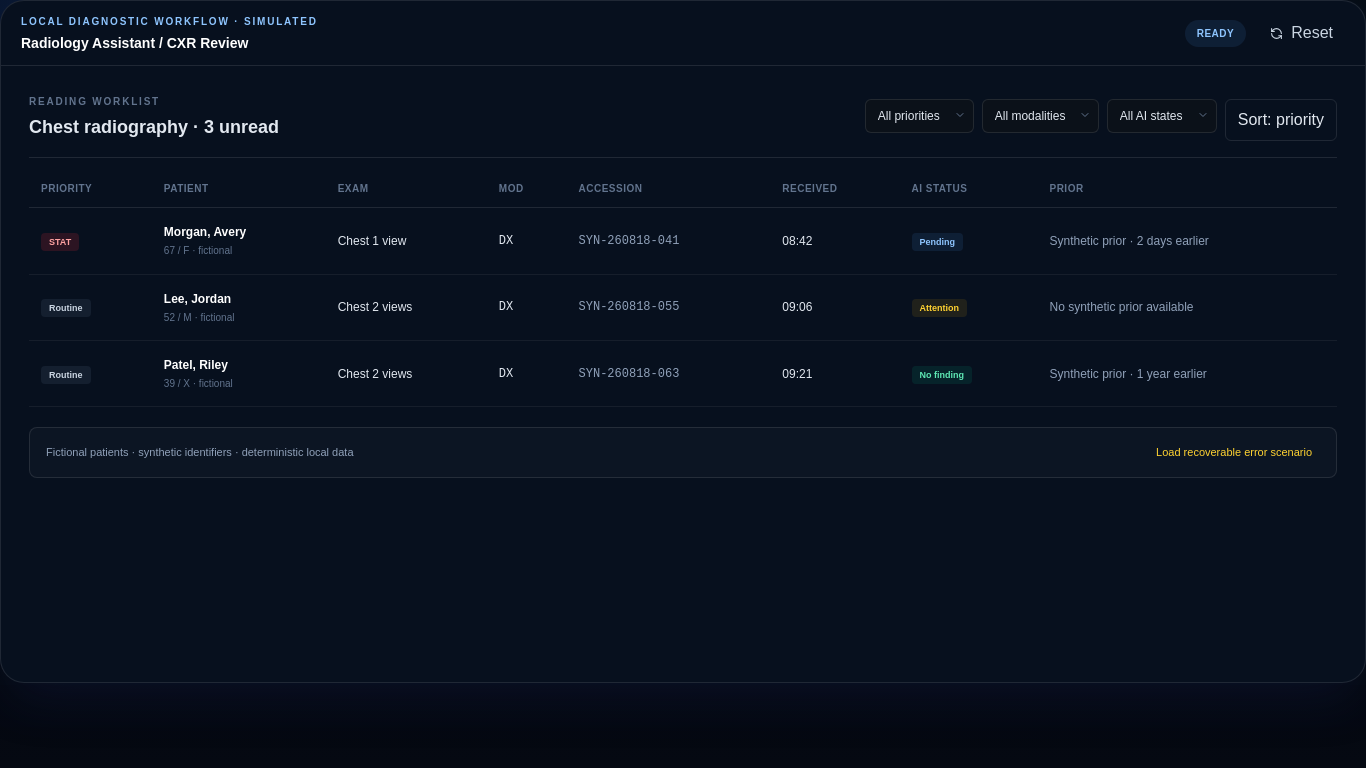
it: Radiology Assistant simulation › reflects Confirm for draft disposition in the generated report
Click the text "Morgan, Avery". click: coordinates (205, 232)
box: left=164, top=225, right=246, bottom=239
Wait 400 ms
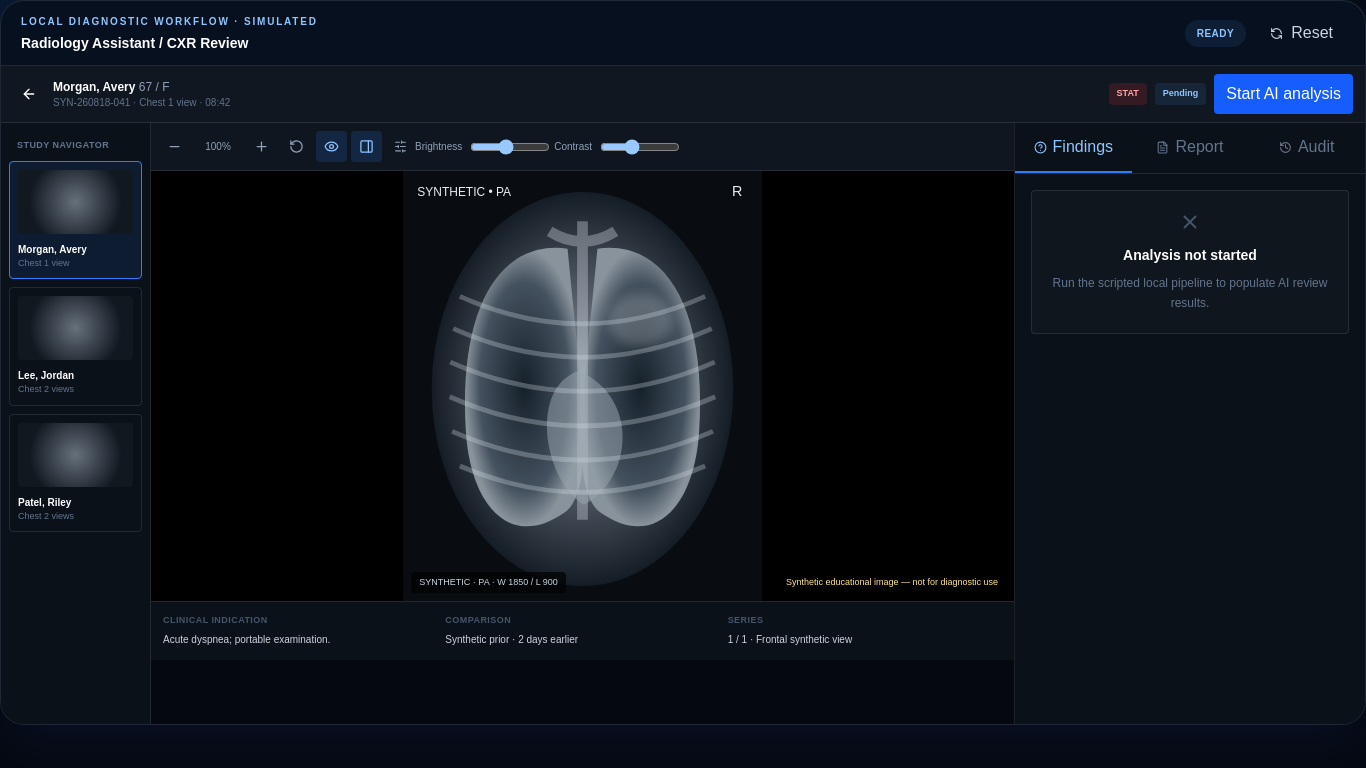
Click the button "Start AI analysis". click: coordinates (1284, 94)
box: left=1214, top=74, right=1353, bottom=114
Wait 1600 ms
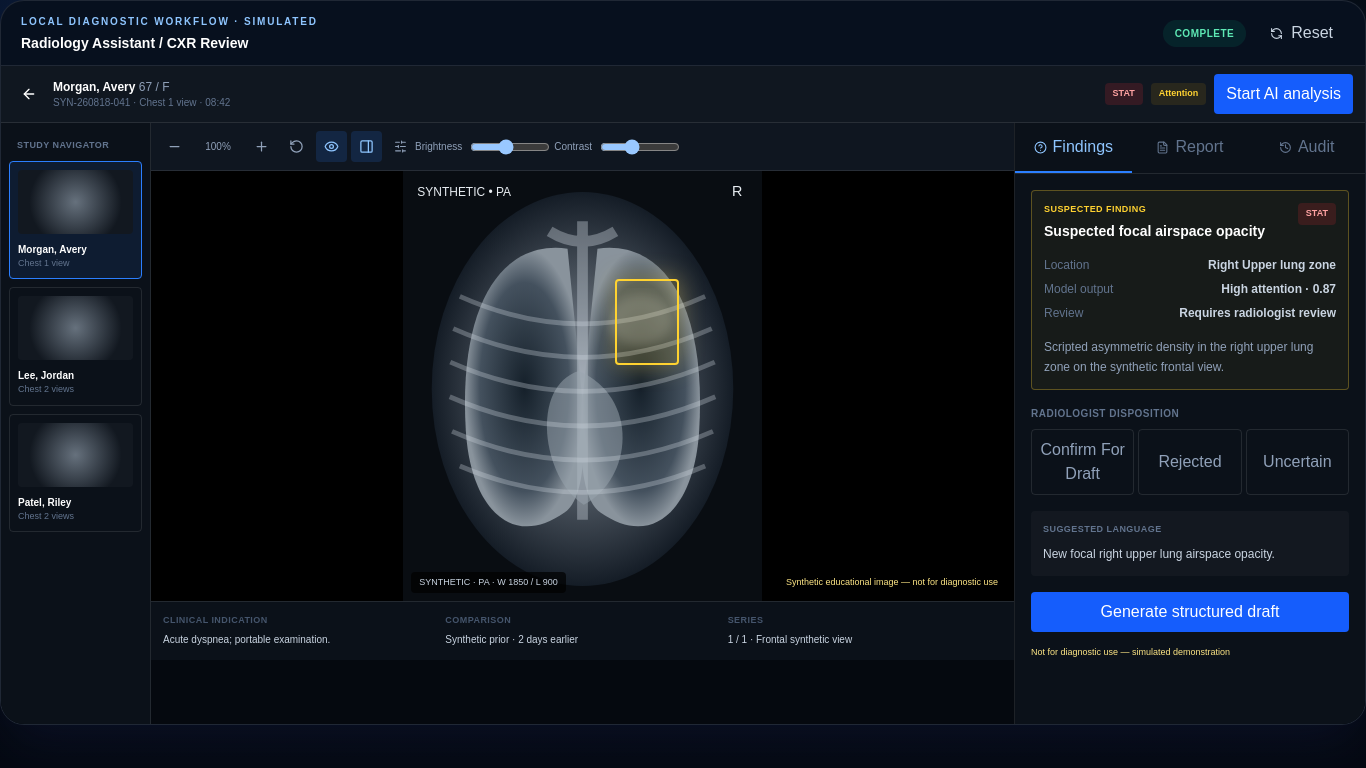
Click the button "Confirm for draft". click: coordinates (1083, 462)
box: left=1031, top=428, right=1134, bottom=494
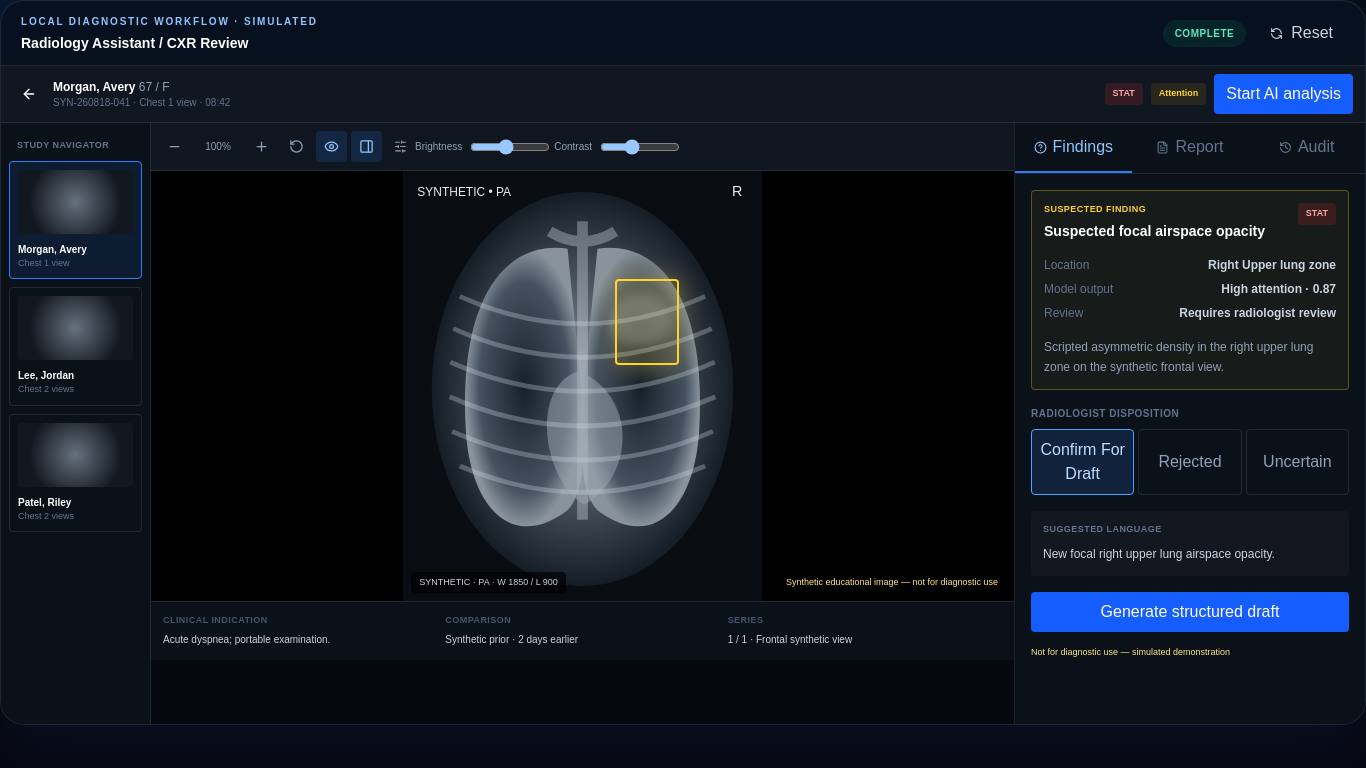
Click the button "Generate structured draft". click: coordinates (1190, 612)
box: left=1031, top=592, right=1349, bottom=632
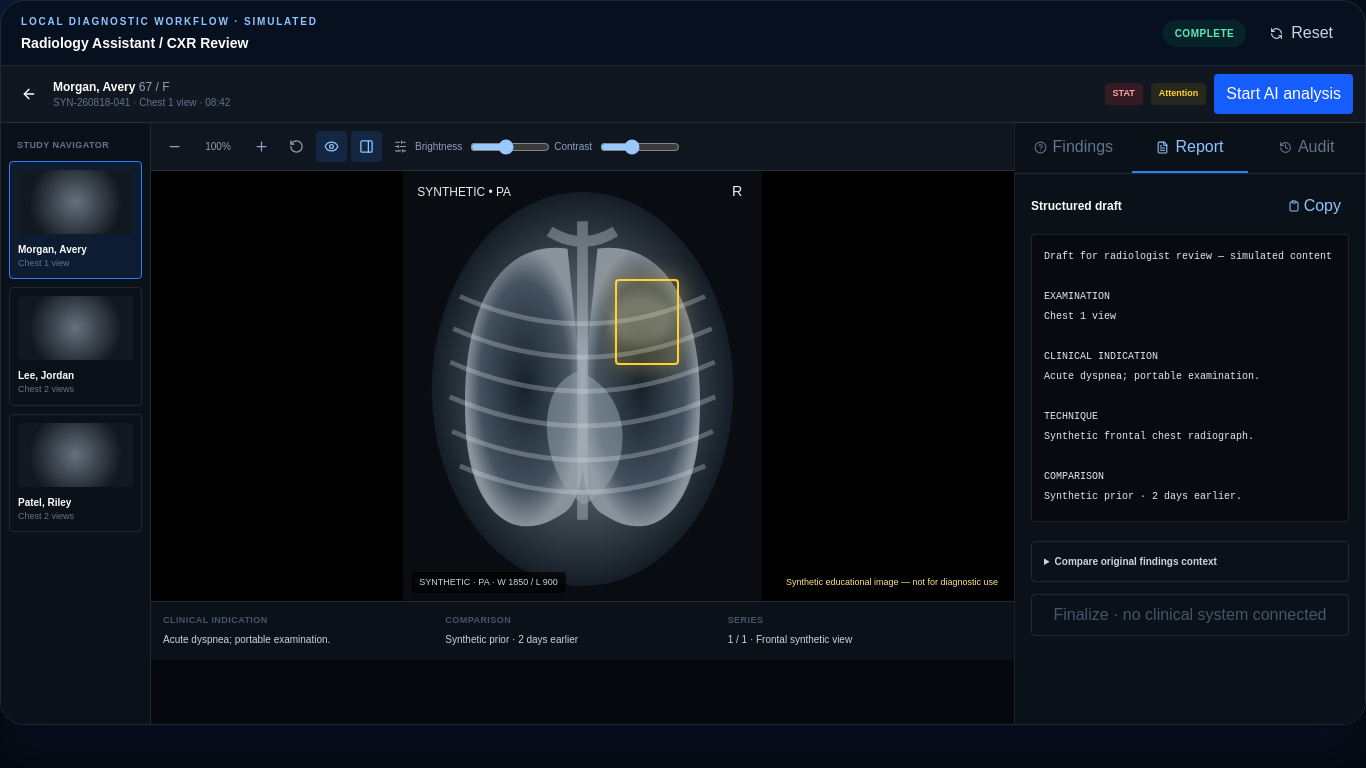
Replace the text in the text box named "Draft report editor" with "Edited report text". click: coordinates (1190, 378)
box: left=1031, top=234, right=1349, bottom=522
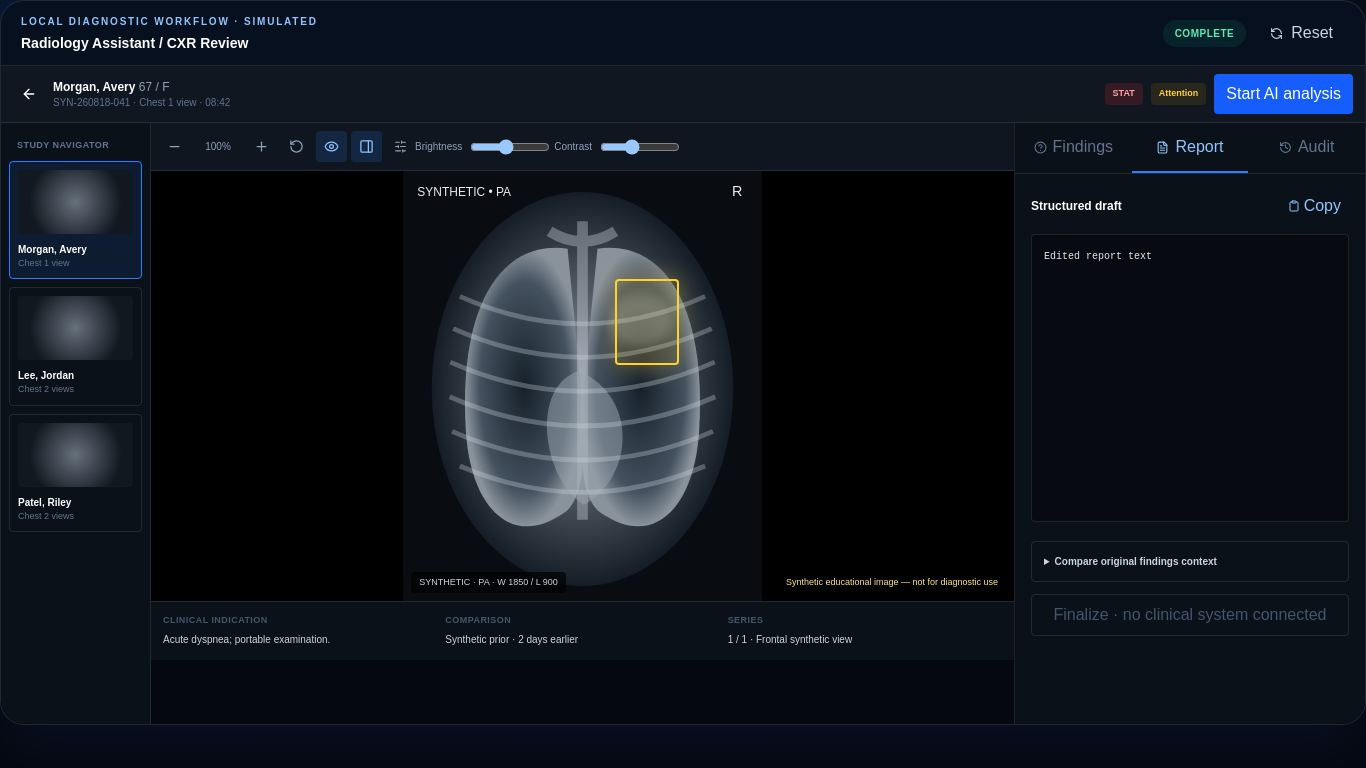
Click the heading "Compare original findings context". click: coordinates (1136, 562)
box: left=1055, top=556, right=1217, bottom=567
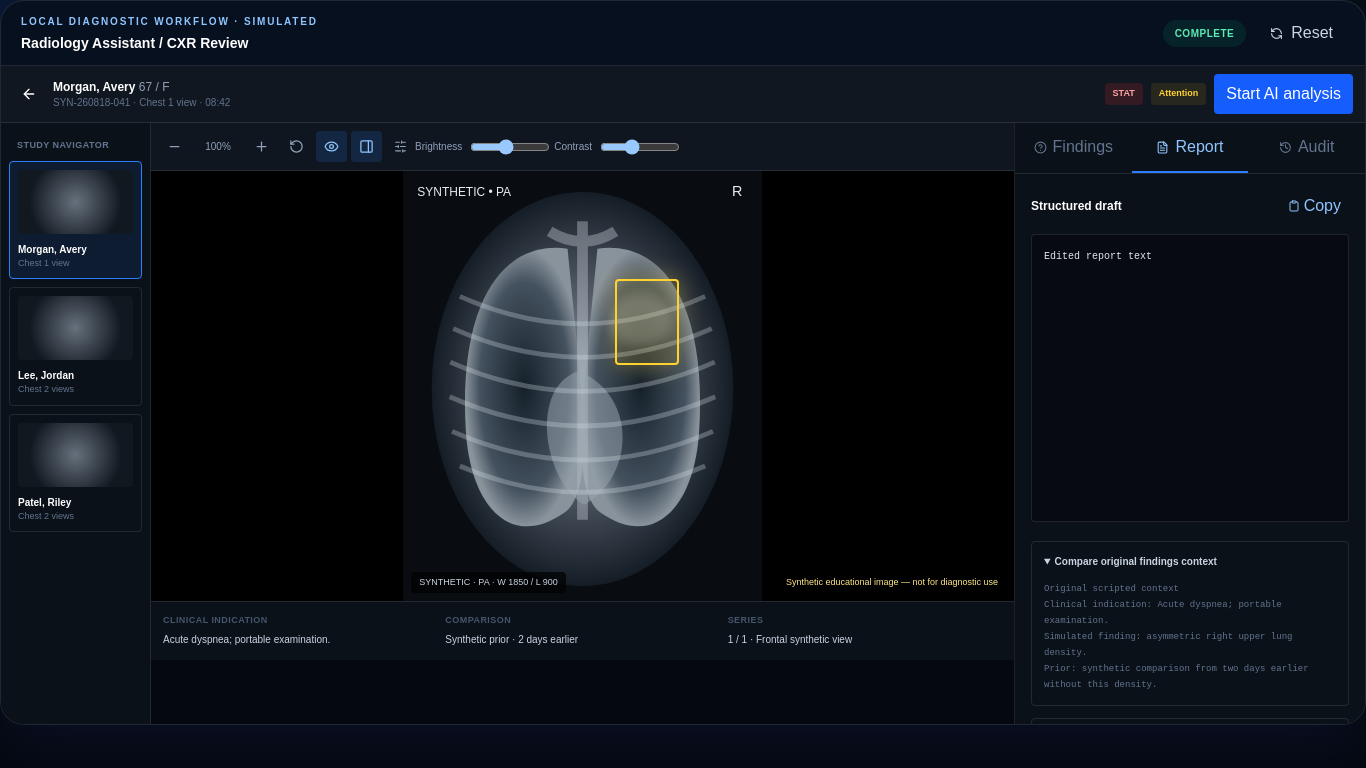
Result: the text "Original scripted context" is shown at left=1044, top=584, right=1314, bottom=690
